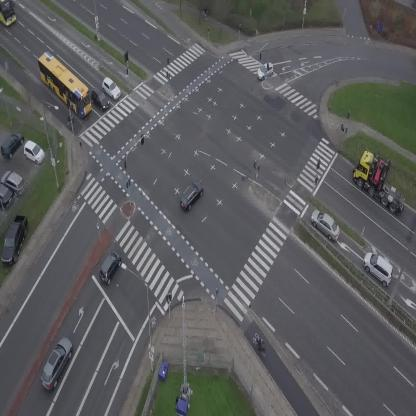bicycle: (253, 335, 269, 358), (66, 113, 73, 129), (200, 6, 209, 18)
bus: (29, 48, 101, 120)
car: (35, 333, 78, 392), (357, 248, 401, 289), (306, 206, 346, 244), (94, 247, 127, 286), (174, 178, 207, 214), (86, 86, 114, 113), (98, 76, 124, 102), (253, 61, 277, 82)
